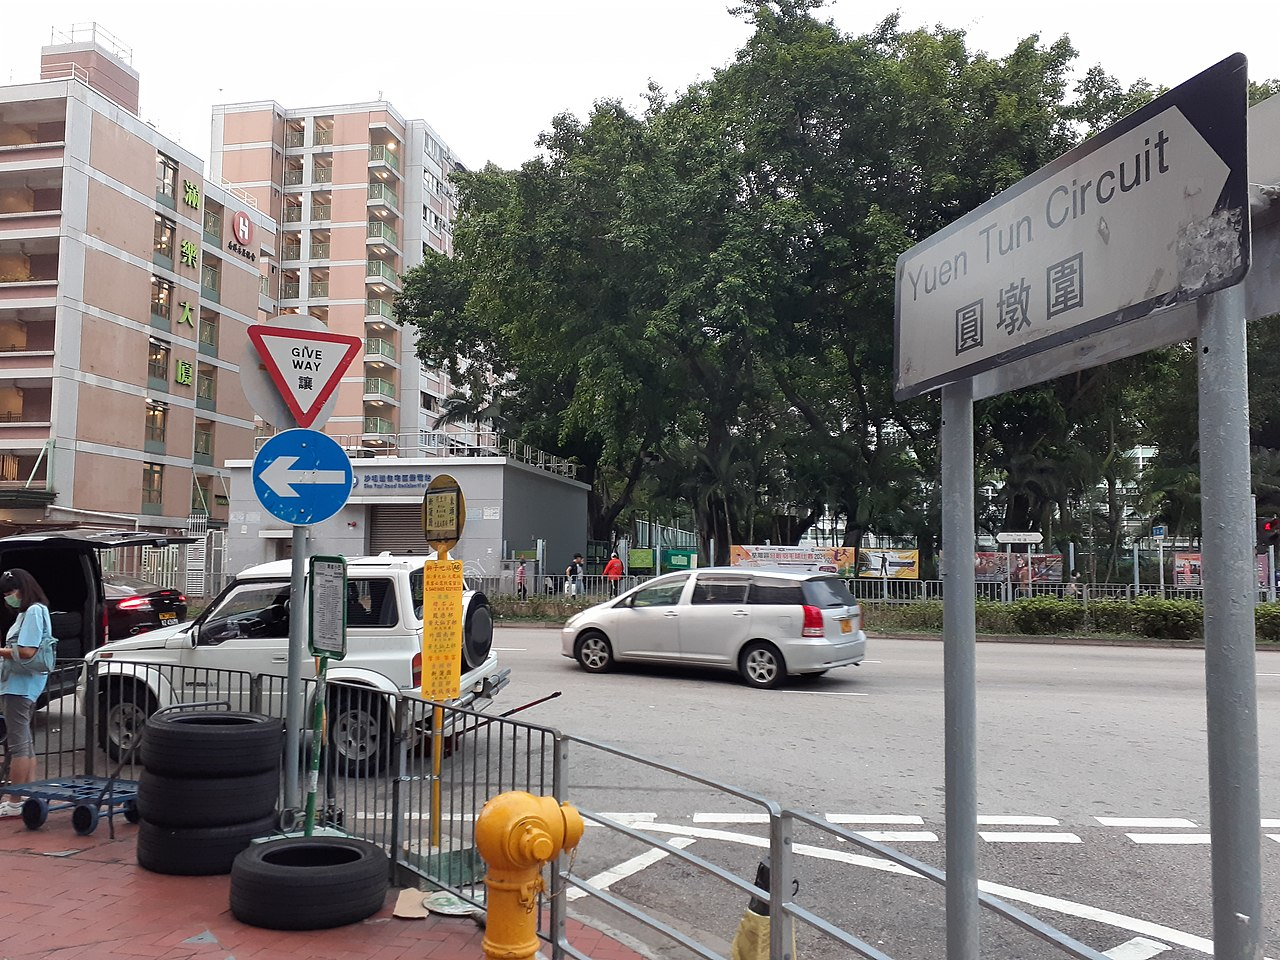Give Way: (243, 322, 366, 424)
Turn Left: (250, 428, 358, 529)
